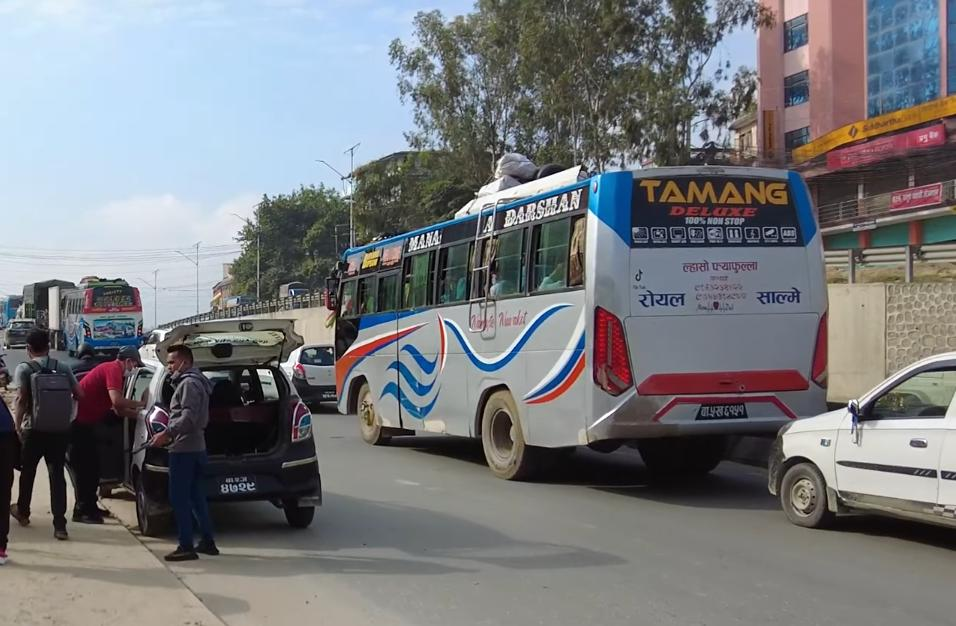bus: (315, 145, 845, 495)
